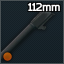P226 9x19 112mm barrel: (0, 0, 64, 64)
